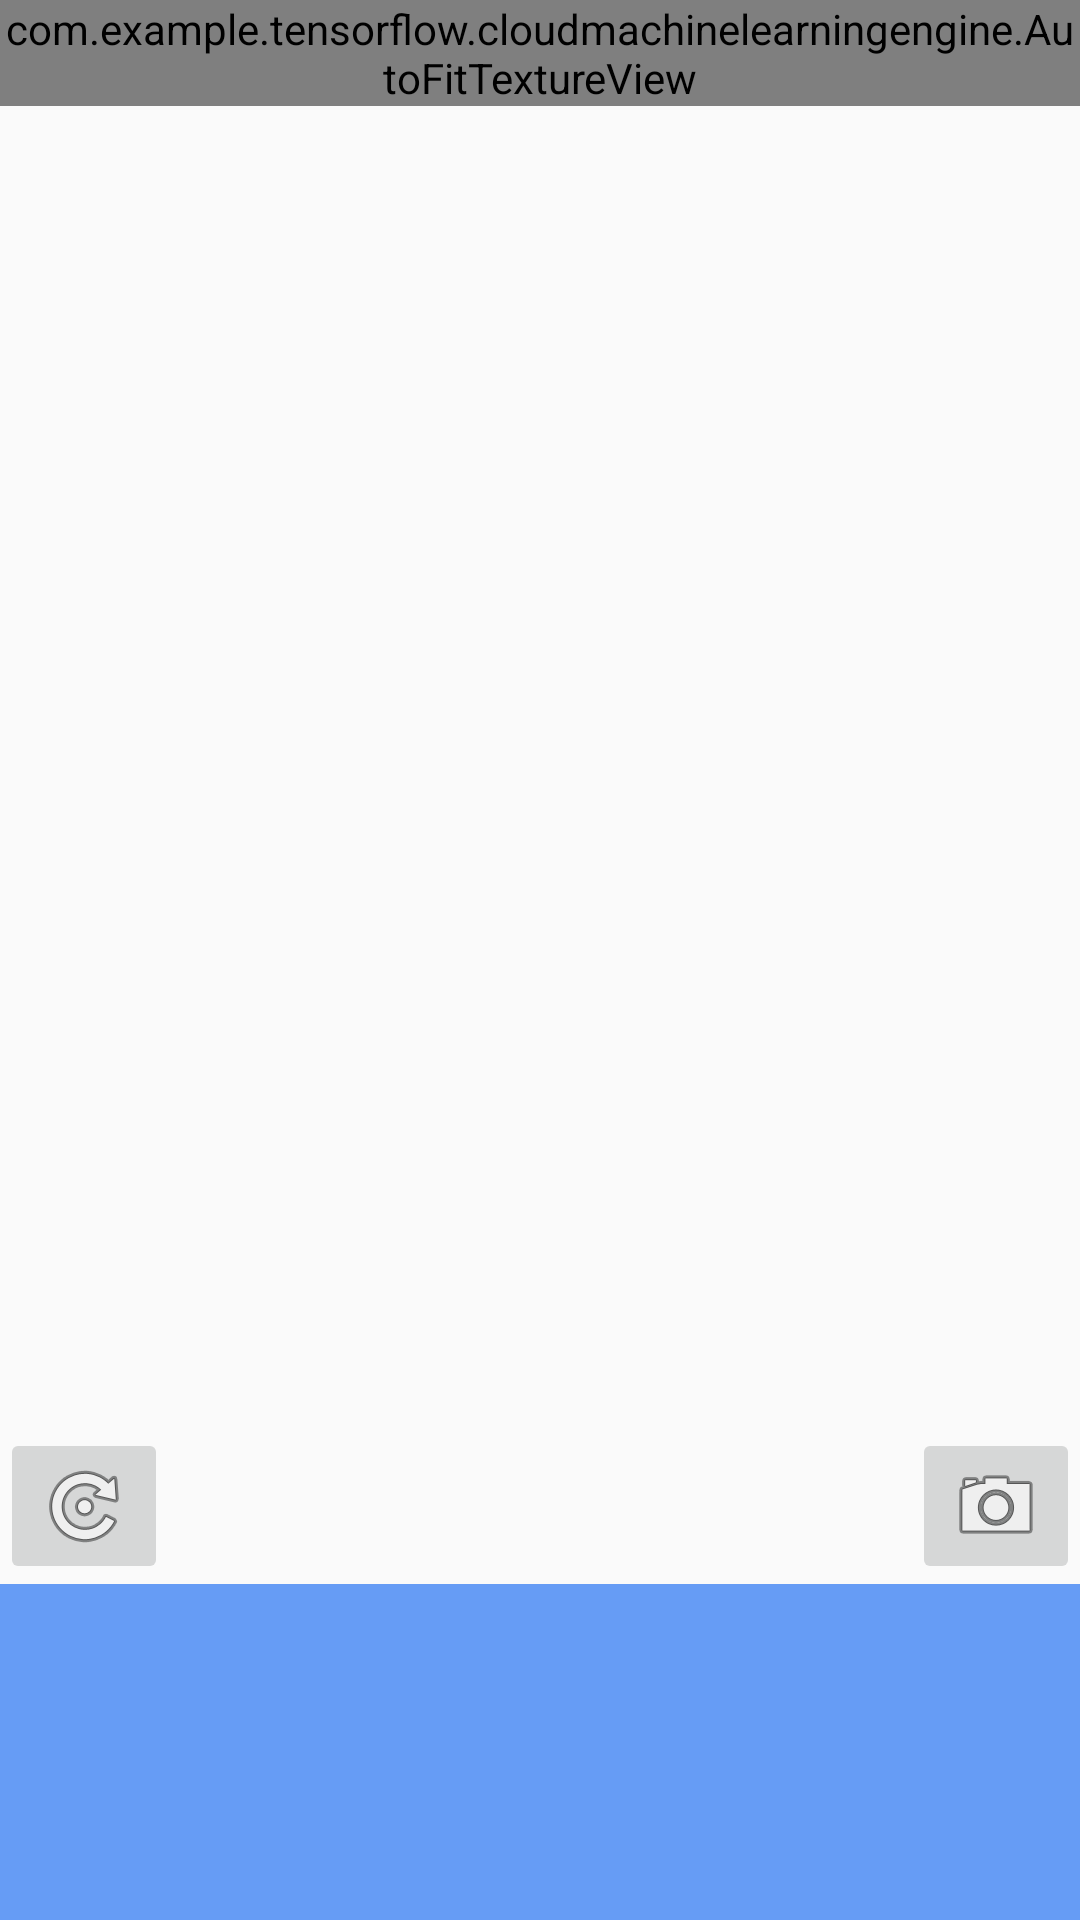

Locate icon controls on the screen. Image size 1080×1920, boxes as bbox(x1, y1, x2, y2).
switch camera: bbox(12, 1446, 156, 1566)
take picture: bbox(924, 1446, 1068, 1566)
